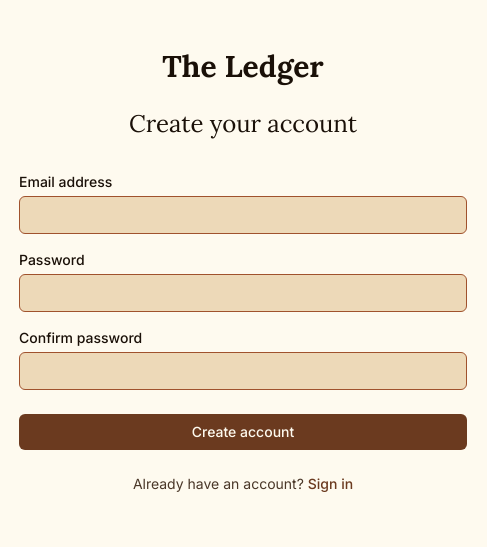
Test: RegisterPage › should handle unexpected errors
The width and height of the screenshot is (487, 547).
Type "test@example.com" into the field labelled "Email address" at (243, 215), box x1=19 y1=196 x2=467 y2=234
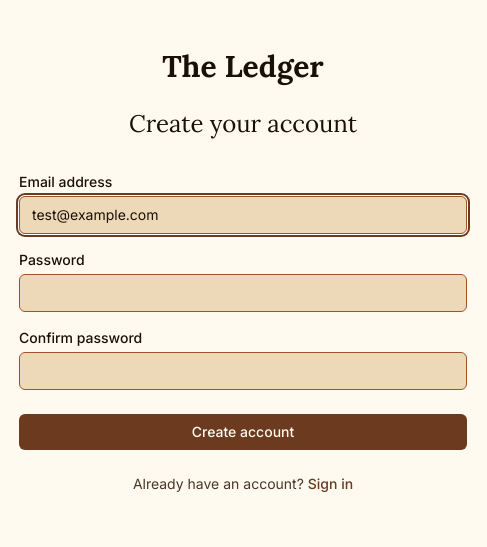
Type "password123" into the password field labelled "Password" at (243, 293), box x1=19 y1=274 x2=467 y2=312
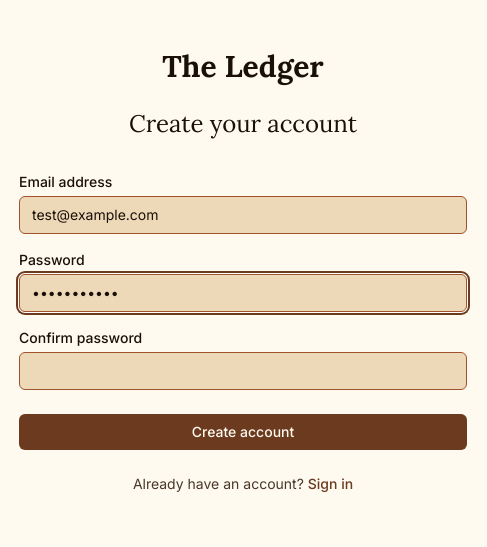
Type "password123" into the password field labelled "Confirm password" at (243, 371), box x1=19 y1=352 x2=467 y2=390
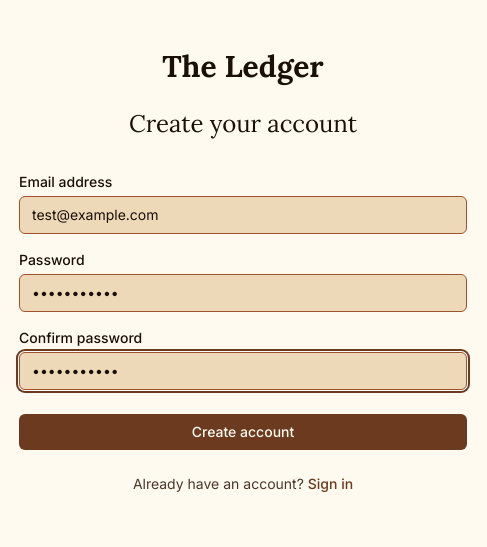
Click the button "Create account" at (243, 432), box x1=19 y1=414 x2=467 y2=450
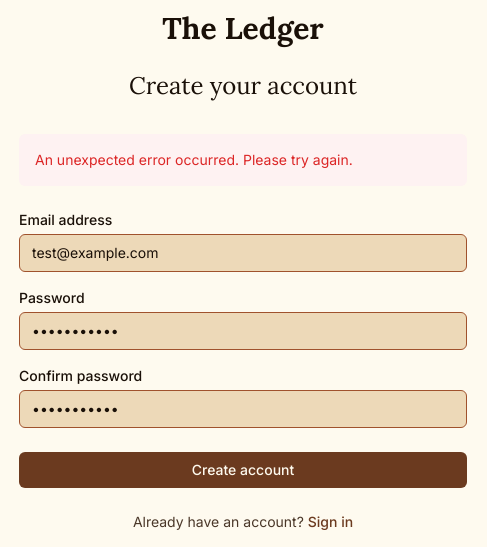
Expected: the text "An unexpected error occurred. Please try again." is shown, x1=19 y1=134 x2=467 y2=186
